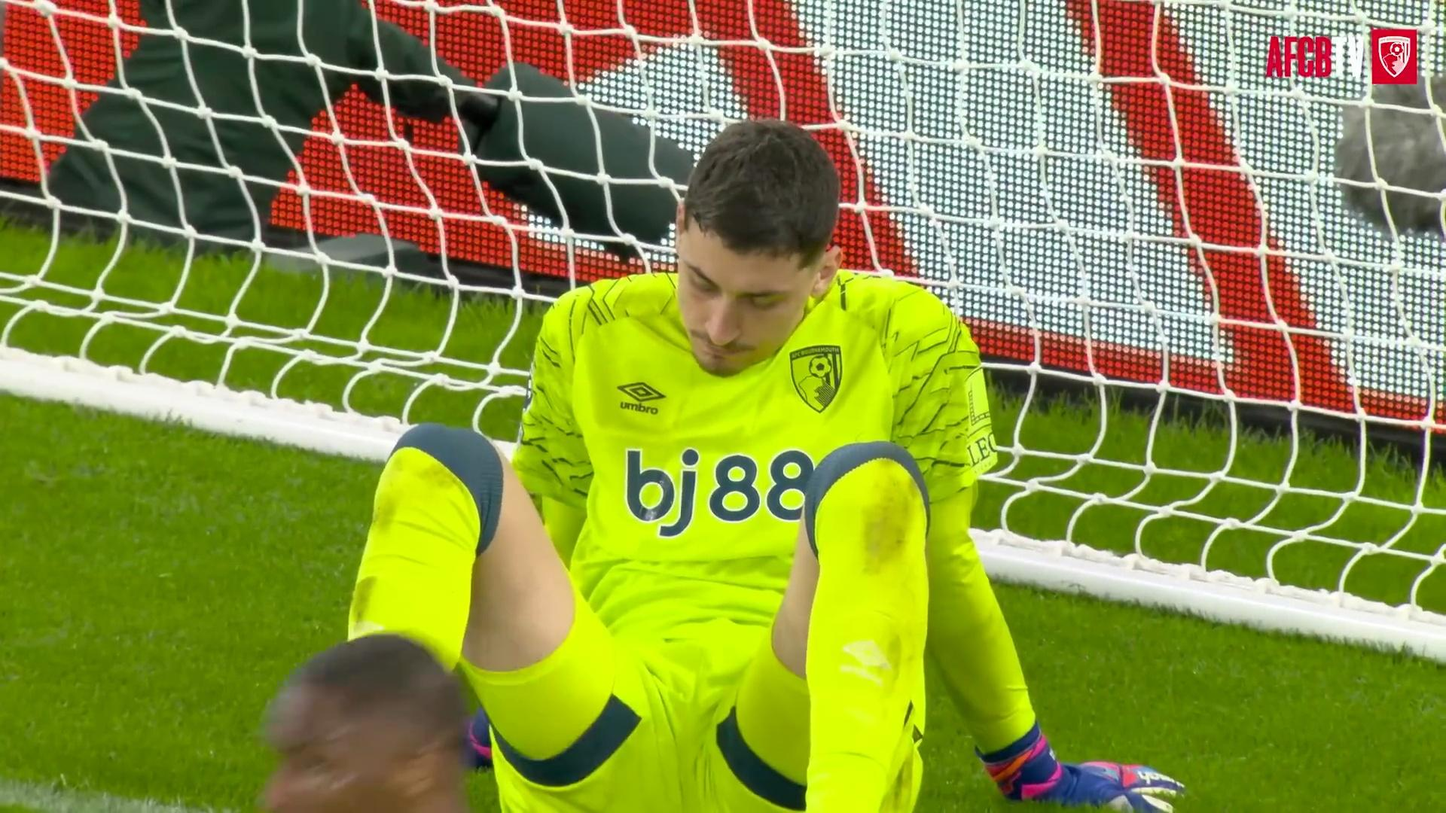player: (350, 120, 1182, 812), (264, 635, 468, 812)
